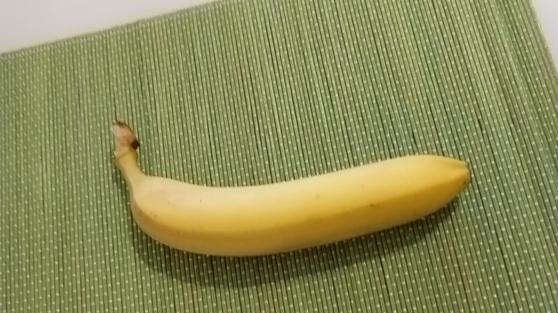banana: (103, 119, 474, 260)
